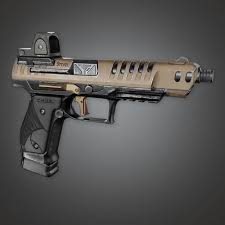gun: (11, 31, 218, 176)
